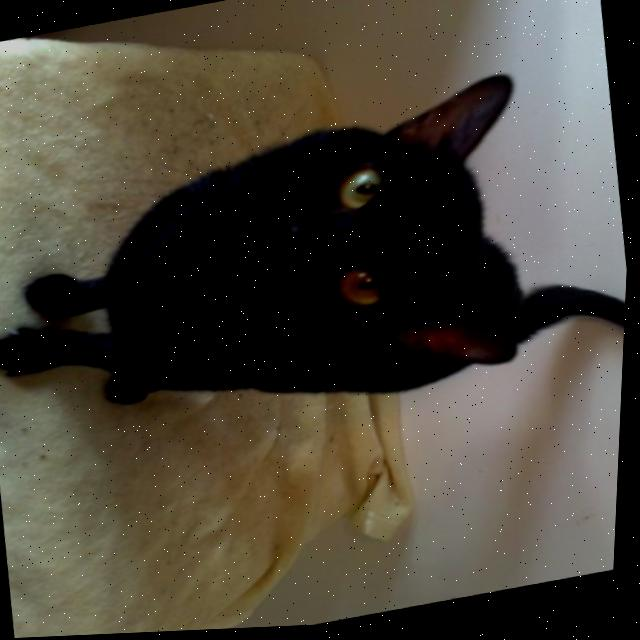Bombay: (0, 56, 637, 484)
